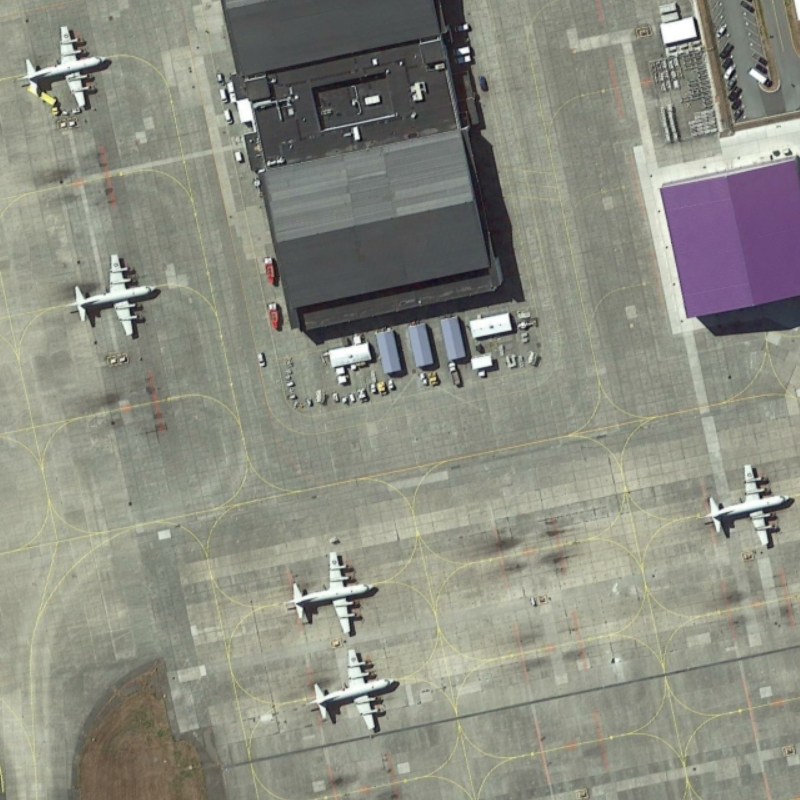A9: (15, 16, 115, 118), (61, 246, 165, 343), (697, 456, 798, 554), (279, 544, 380, 639), (308, 644, 407, 738)
